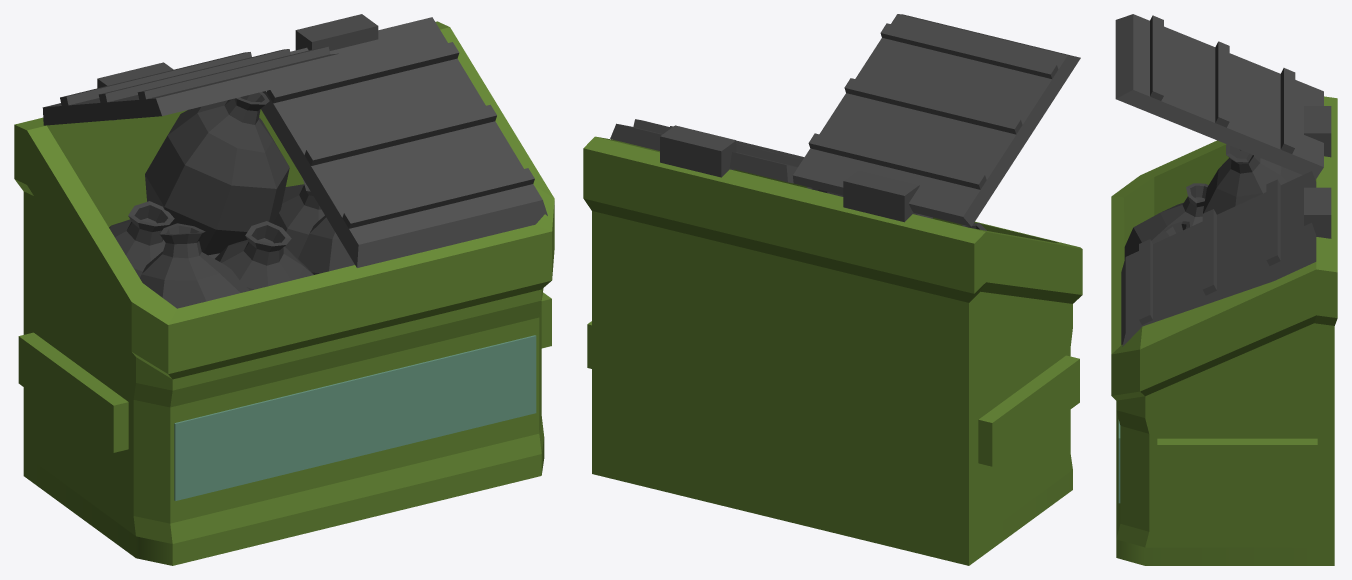
Rendered from DumpsterwithGarbageBag.fbx.
3 renders of one model, left to right at view 1: azimuth 30°, elevation 25°; view 2: azimuth 150°, elevation 25°; view 3: azimuth 270°, elevation 25°, orthographic. The views are drawn at different scales.
Visible parts, largest first — view 1: pCube25, pCube31 (×2), pCube28, Garbage_Bag7, pCube26, pCube34 (×2), Garbage_Bag4, pCube33 (×2), pCube32 (×2), Garbage_Bag2, Garbage_Bag3, pCube30 (+3 smaller); view 2: pCube25, pCube31 (×2), pCube26, pCube32 (×2), pCube33, pCube30, pCube34, pCube29; view 3: pCube25, pCube31 (×2), pCube27, Garbage_Bag7, pCube32 (×2), pCube33 (×2), pCube34 (×2), Garbage_Bag4, pCube30, pCube29.
Boxes of the visible parts, x1,y1,x2,y2 form: pCube25: [14, 21, 554, 565]; pCube31 (×2): [42, 17, 547, 267]; pCube28: [174, 335, 536, 500]; Garbage_Bag7: [145, 92, 289, 255]; pCube26: [18, 332, 128, 452]; pCube34 (×2): [137, 46, 534, 228]; Garbage_Bag4: [140, 223, 249, 308]; pCube33 (×2): [98, 49, 496, 165]; pCube32 (×2): [60, 42, 459, 105]; Garbage_Bag2: [215, 221, 313, 290]; Garbage_Bag3: [109, 201, 174, 277]; pCube30: [295, 14, 378, 50]; pCube25: [583, 136, 1082, 565]; pCube31 (×2): [610, 14, 1080, 226]; pCube26: [978, 355, 1079, 466]; pCube32 (×2): [633, 119, 986, 189]; pCube33: [844, 78, 1022, 134]; pCube30: [660, 125, 736, 177]; pCube34: [880, 23, 1058, 78]; pCube29: [843, 170, 919, 222]; pCube25: [1111, 96, 1337, 565]; pCube31 (×2): [1115, 14, 1323, 346]; pCube27: [1157, 438, 1317, 484]; Garbage_Bag7: [1203, 144, 1302, 214]; pCube32 (×2): [1266, 68, 1295, 265]; pCube33 (×2): [1202, 41, 1229, 295]; pCube34 (×2): [1139, 15, 1163, 324]; Garbage_Bag4: [1124, 183, 1208, 259]; pCube30: [1304, 187, 1331, 238]; pCube29: [1304, 106, 1331, 157].
Bounding box in the file's own units: 5.25 × 5.29 × 2.79.
